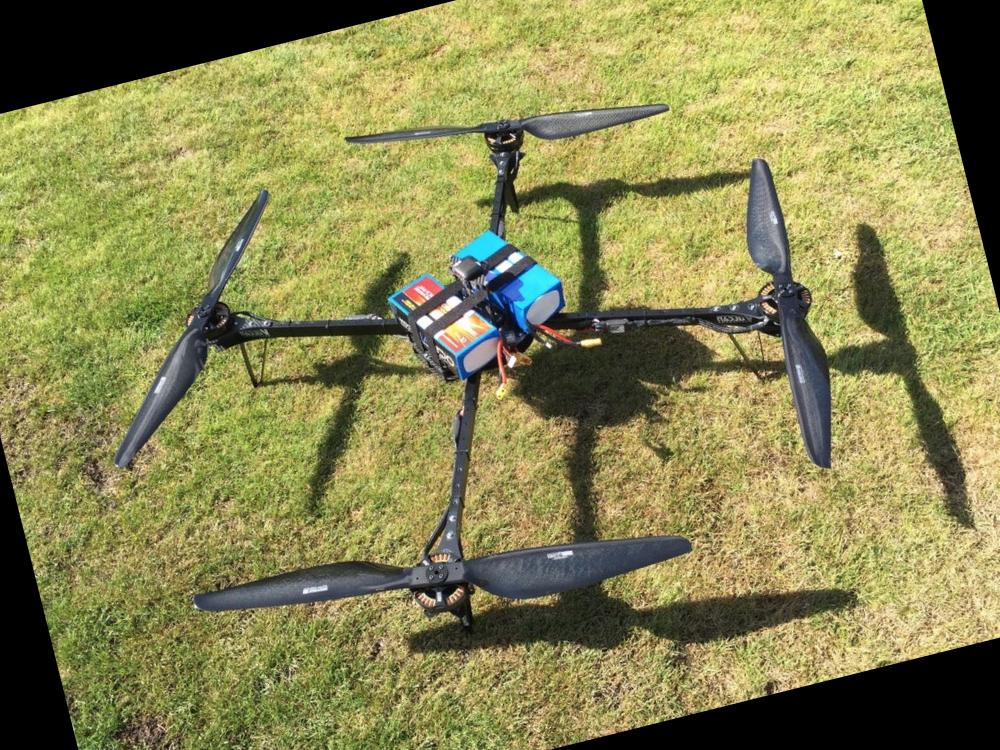drone: (29, 0, 928, 729)
